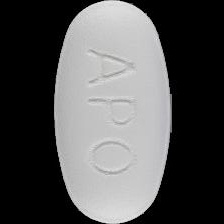63187-284: (0, 0, 224, 224)
